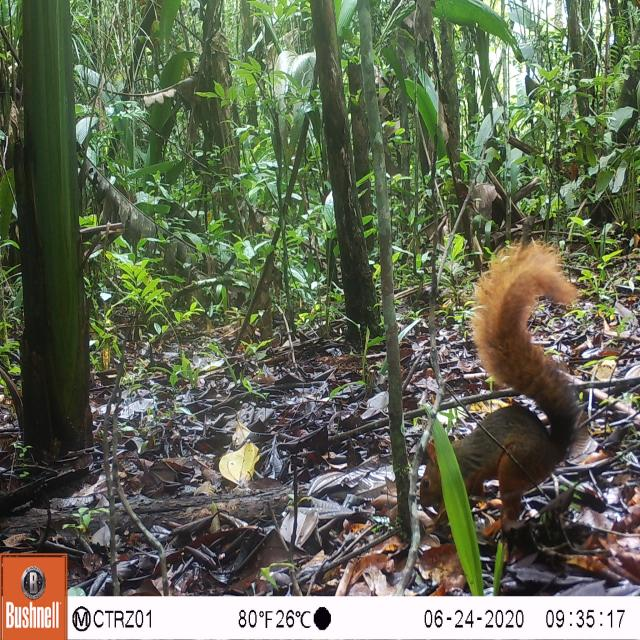Squirrel: (410, 236, 600, 538)
